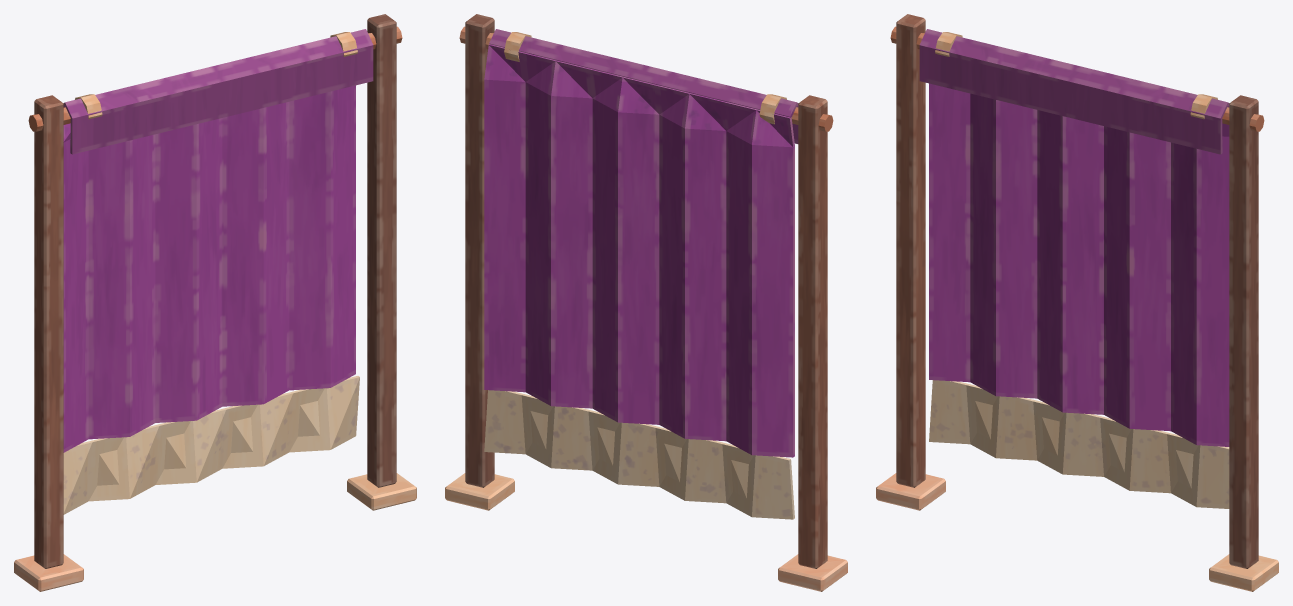
File: rack_plum.fbx
The picture shows the model from 3 angles, left to right: view 1: azimuth 30°, elevation 25°; view 2: azimuth 150°, elevation 25°; view 3: azimuth 330°, elevation 25°; orthographic projection.
Visible parts, largest first — view 1: rack_plum; view 2: rack_plum; view 3: rack_plum.
Boxes of the visible parts, x1=… form: rack_plum: x1=14, y1=14, x2=416, y2=591; rack_plum: x1=445, y1=14, x2=847, y2=591; rack_plum: x1=876, y1=14, x2=1278, y2=591.
Bounding box in the file's own units: 8.3 × 10 × 1.
1 material, 1 textured.
